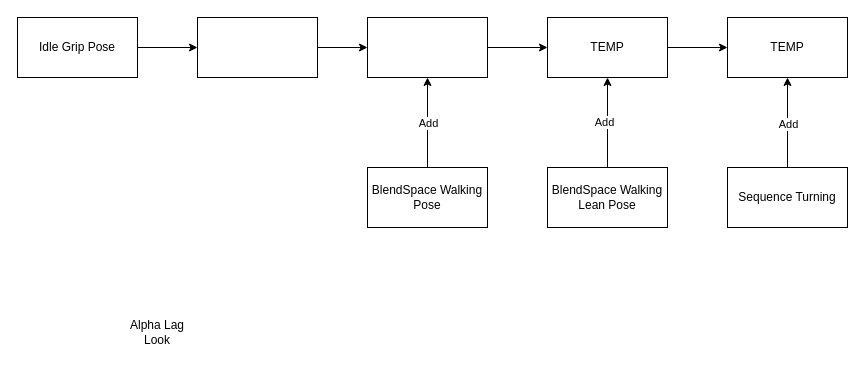
This 865x365 diagram has some shape labels left out. The box of each missing label's shape, as (x1, y1, x2, y2) in pixels:
Idle Pose: (196, 16, 318, 78)
Standing Slots Pose: (366, 16, 488, 78)
